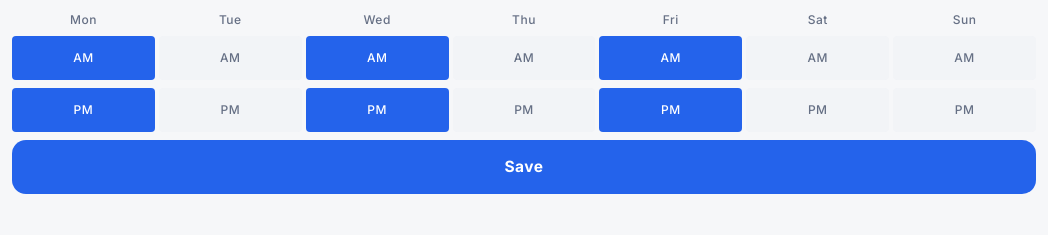
Test: EditableAvailabilityGrid › shows error message on mutation failure
Click the button "Save".
click(524, 167)  # box x1=12 y1=140 x2=1036 y2=194
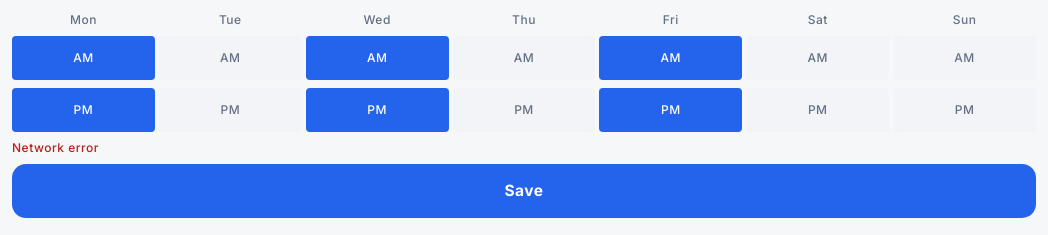
Expected: the message "Network error" is shown, x1=12 y1=140 x2=99 y2=155
